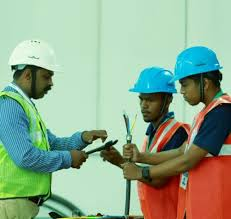arm: (136, 108, 223, 185), (5, 114, 86, 175)
face: (175, 72, 205, 105), (136, 88, 165, 121)
glove: (120, 159, 141, 181), (68, 147, 88, 169)
helmet: (174, 43, 226, 93), (130, 64, 177, 102), (13, 61, 54, 98)
human: (119, 53, 230, 218), (1, 44, 88, 214)
noglove: (99, 139, 126, 167)
nogoggle: (137, 94, 167, 106), (39, 72, 54, 82), (177, 82, 197, 88)
vest: (1, 86, 56, 173), (138, 115, 191, 187), (189, 93, 231, 156)
